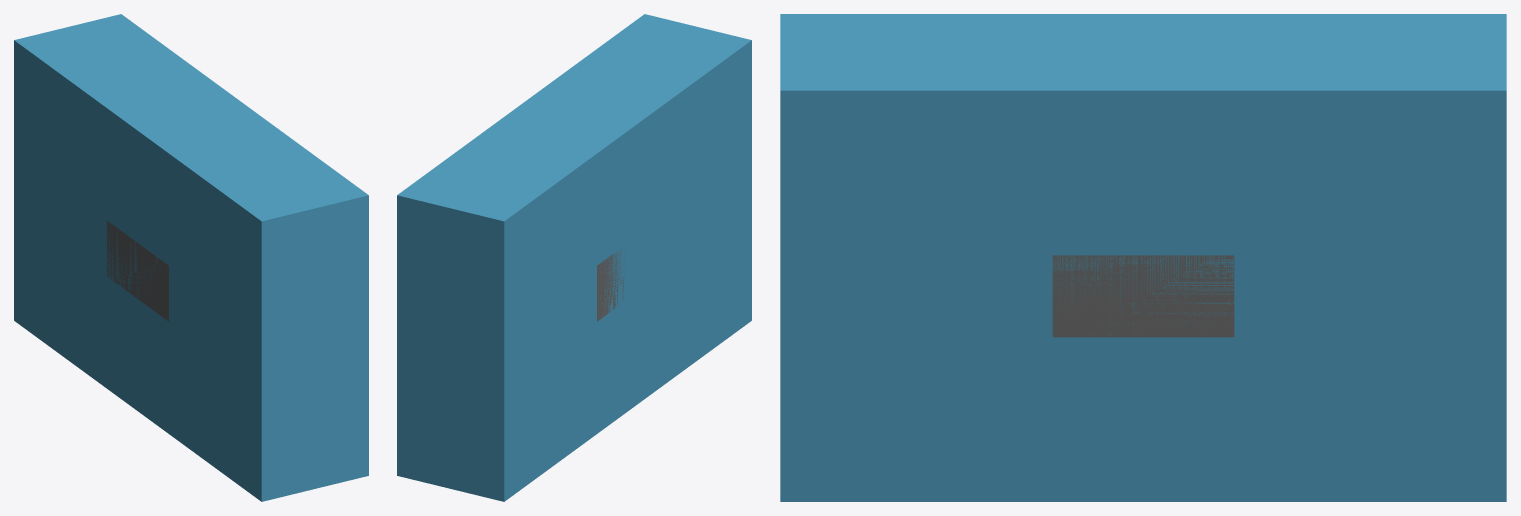
File: ToteClamp.glb
The picture shows the model from 3 angles, left to right: view 1: azimuth 30°, elevation 25°; view 2: azimuth 150°, elevation 25°; view 3: azimuth 270°, elevation 25°; orthographic projection. The views are drawn at different scales.
Visible parts, largest first — view 1: TC_Jaw1, TC_Body; view 2: TC_Jaw1, TC_Body; view 3: TC_Jaw1, TC_Body.
Boxes of the visible parts, x1,y1,x2,y2 form: TC_Jaw1: (14,14,368,501); TC_Body: (107,220,168,321); TC_Jaw1: (397,14,751,501); TC_Body: (597,249,625,321); TC_Jaw1: (780,14,1506,501); TC_Body: (1052,255,1234,337).
Size of the model in its own units: 0.01 by 0.025 by 0.04.
